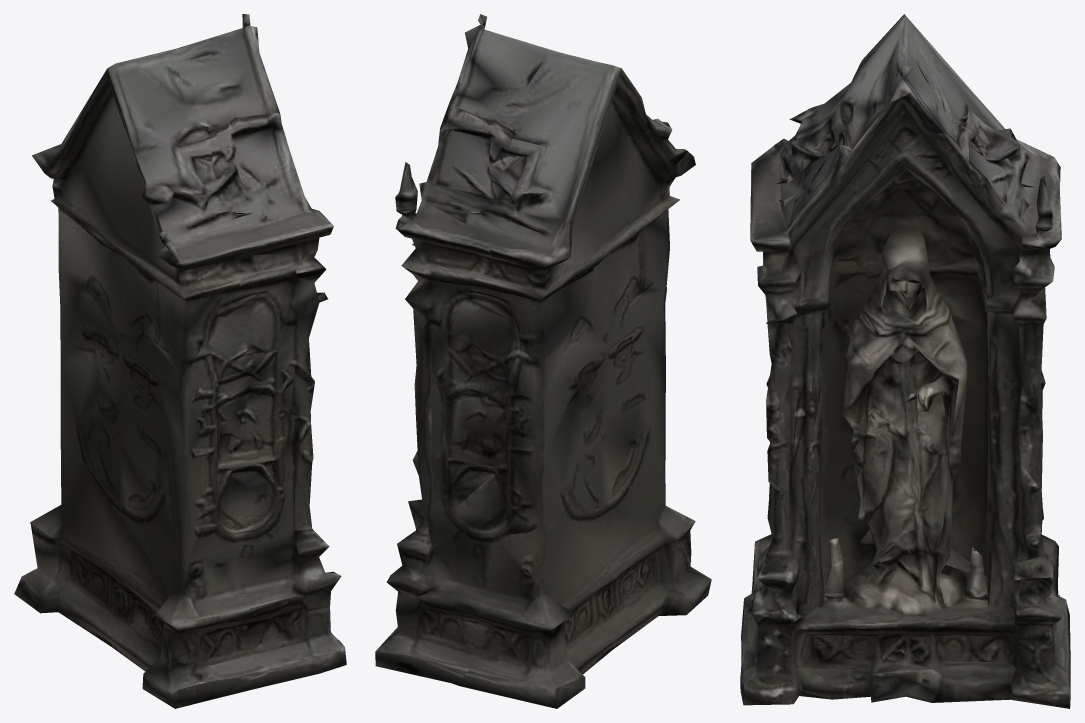
File: reliquary.glb
The picture shows the model from 3 angles, left to right: view 1: azimuth 30°, elevation 25°; view 2: azimuth 150°, elevation 25°; view 3: azimuth 270°, elevation 25°; orthographic projection. The views are drawn at different scales.
Parts seen in each view (by area): view 1: tripo_node_87c3bb8d-257b-469e-8727-aae50ae97217; view 2: tripo_node_87c3bb8d-257b-469e-8727-aae50ae97217; view 3: tripo_node_87c3bb8d-257b-469e-8727-aae50ae97217.
Boxes of the visible parts, left/top/right/bottom form: tripo_node_87c3bb8d-257b-469e-8727-aae50ae97217: left=14, top=14, right=346, bottom=708; tripo_node_87c3bb8d-257b-469e-8727-aae50ae97217: left=375, top=14, right=711, bottom=708; tripo_node_87c3bb8d-257b-469e-8727-aae50ae97217: left=740, top=14, right=1070, bottom=708.
Size of the model in its own units: 0.3204 by 0.9972 by 0.4737.
Materials: 1 (1 with a texture image).
